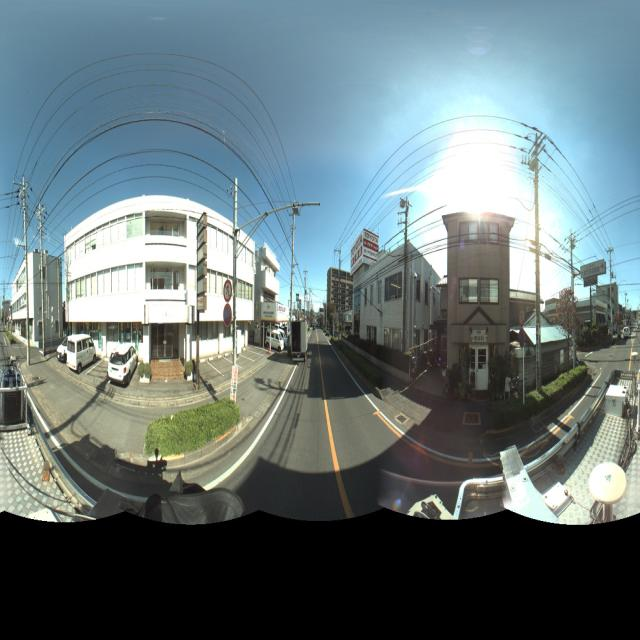b_1: (63, 187, 262, 383), (446, 202, 516, 390), (355, 233, 434, 355), (10, 237, 67, 351), (256, 235, 280, 346), (324, 254, 353, 336), (592, 274, 622, 334)
b_2: (543, 286, 604, 376)
